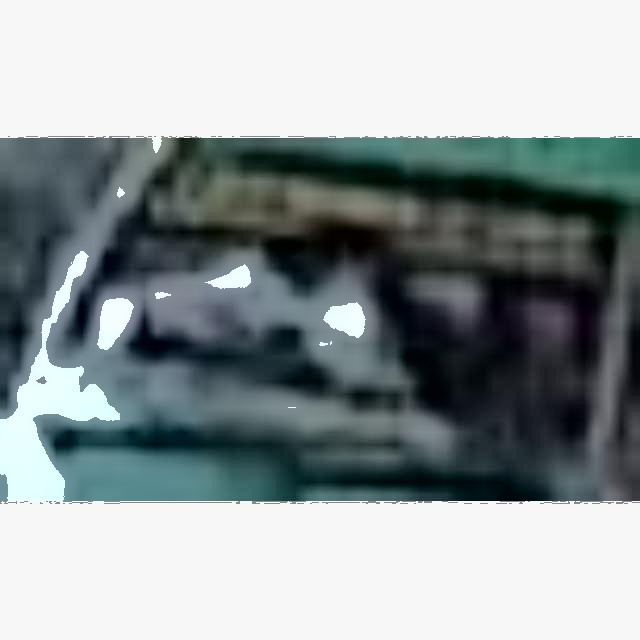tidak-pakai: (163, 238, 376, 402)
